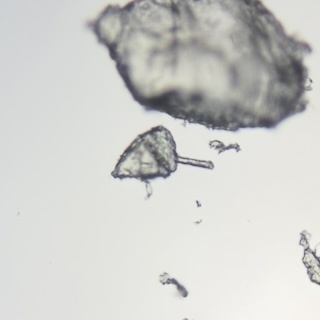microplastic: (84, 1, 314, 131), (111, 125, 213, 196), (298, 231, 320, 285), (159, 272, 188, 298), (208, 140, 241, 155)
